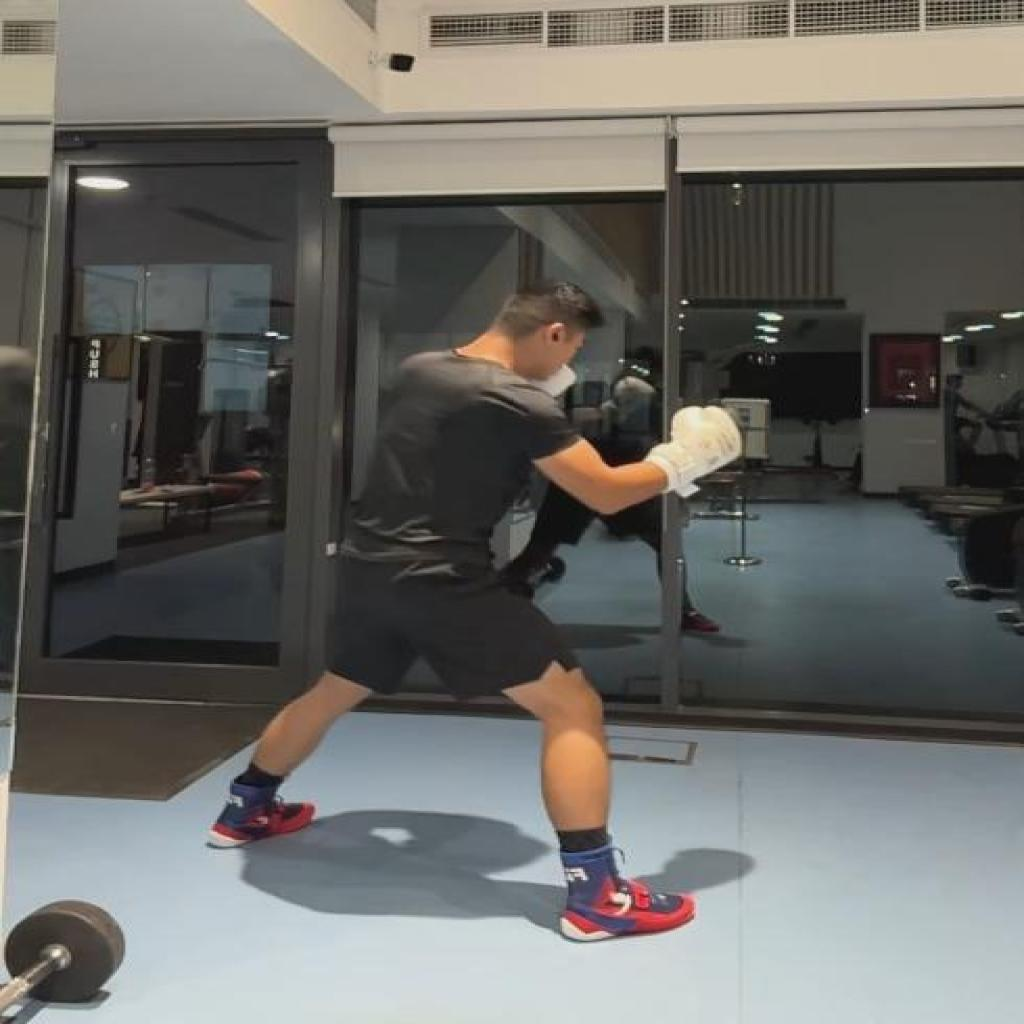uppercut: (199, 270, 748, 948)
